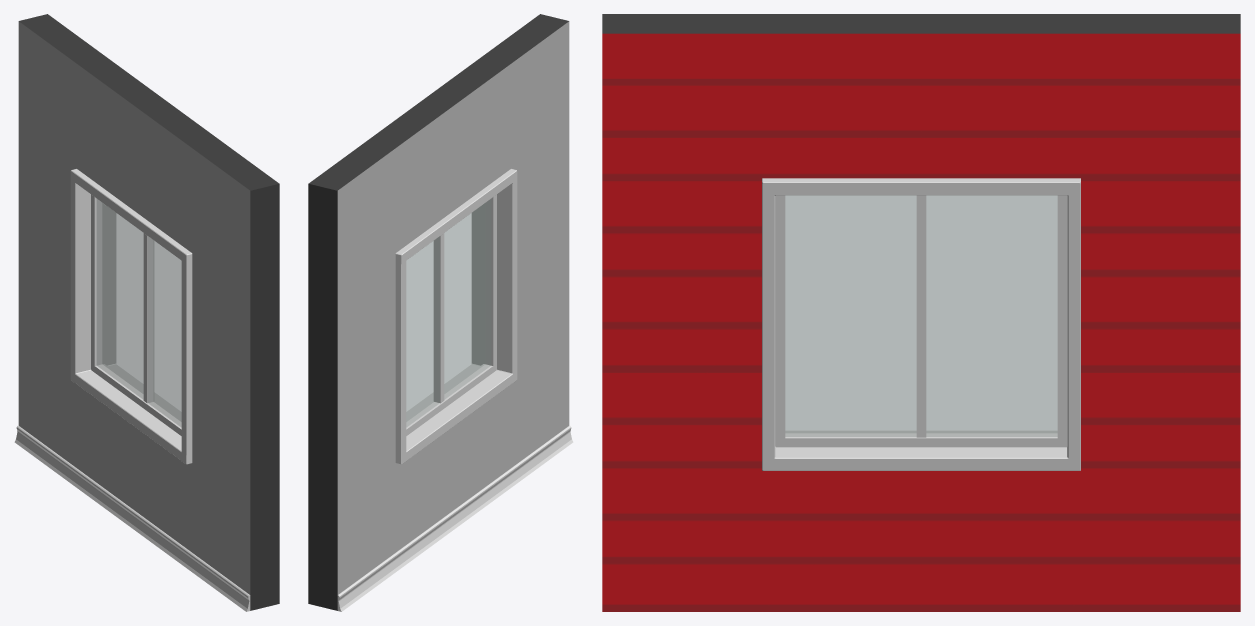
The model's file is WindowWall.fbx.
The picture shows the model from 3 angles, left to right: view 1: azimuth 30°, elevation 25°; view 2: azimuth 150°, elevation 25°; view 3: azimuth 270°, elevation 25°; orthographic projection. The views are drawn at different scales.
Visible parts, largest first — view 1: Window; view 2: Window; view 3: Window.
Boxes of the visible parts, left/top/right/bottom form: Window: left=14, top=14, right=279, bottom=611; Window: left=308, top=14, right=573, bottom=611; Window: left=602, top=14, right=1240, bottom=611.
Bounding box in the file's own units: 0.4115 × 4 × 4.
